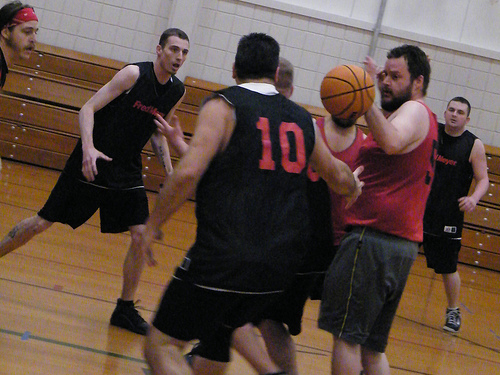basketball: (320, 65, 375, 120)
